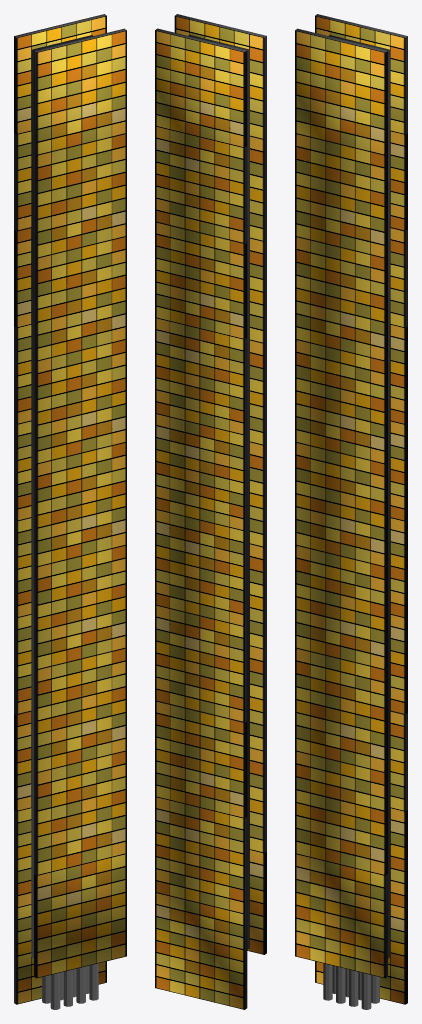
The model's file is Estela.obj.
3 views of the same model, side by side, from view 1: azimuth 30°, elevation 25°; view 2: azimuth 150°, elevation 25°; view 3: azimuth 330°, elevation 25° (orthographic).
Parts seen in each view (by area): view 1: Cube; view 2: Cube; view 3: Cube.
Boxes of the visible parts, x1,y1,x2,y2 form: Cube: [14, 14, 126, 1009]; Cube: [155, 14, 266, 1009]; Cube: [295, 14, 407, 1009].
Size of the model in its own units: 8.47 by 86.35 by 3.61.
